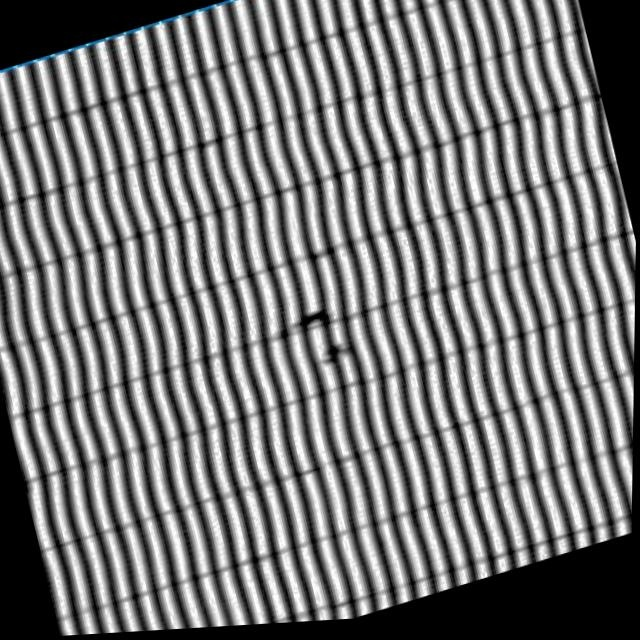Stitch: (263, 286, 379, 396)
